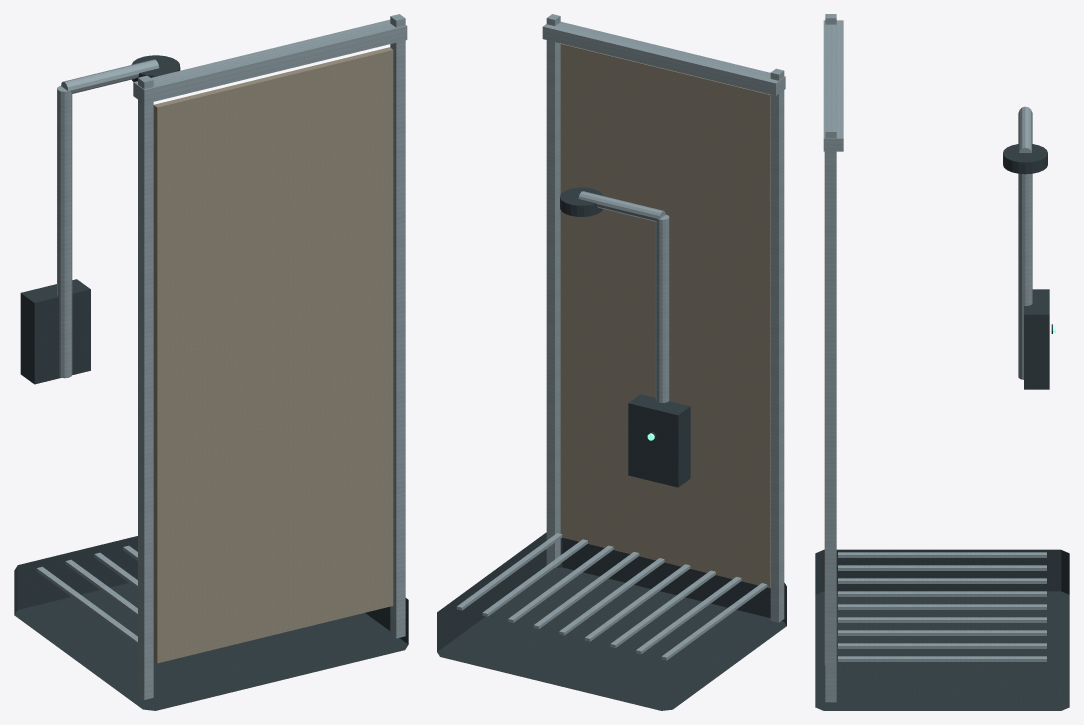
File: hygiene_shower.glb
3 views of the same model, side by side, from view 1: azimuth 30°, elevation 25°; view 2: azimuth 150°, elevation 25°; view 3: azimuth 270°, elevation 25° (orthographic). The views are drawn at different scales.
Parts seen in each view (by area): view 1: Splash_Curtain__fabricwarm, Drip_Tray__graphite, Support_Rails__alloy, Top_Rail__alloy, Spray_Arm__alloy, Flow_Control__graphite, Floor_Grate__alloy, Spray_Head__graphite; view 2: Splash_Curtain__fabricwarm, Drip_Tray__graphite, Support_Rails__alloy, Floor_Grate__alloy, Top_Rail__alloy, Flow_Control__graphite, Spray_Arm__alloy, Spray_Head__graphite; view 3: Drip_Tray__graphite, Floor_Grate__alloy, Support_Rails__alloy, Spray_Arm__alloy, Top_Rail__alloy, Flow_Control__graphite, Spray_Head__graphite, Splash_Curtain__fabricwarm.
Part boxes in pixels (x1=…): Splash_Curtain__fabricwarm: x1=153, y1=47, x2=393, y2=663; Drip_Tray__graphite: x1=14, y1=536, x2=408, y2=710; Support_Rails__alloy: x1=138, y1=14, x2=405, y2=699; Top_Rail__alloy: x1=133, y1=19, x2=407, y2=103; Spray_Arm__alloy: x1=57, y1=59, x2=159, y2=378; Flow_Control__graphite: x1=20, y1=279, x2=90, y2=384; Floor_Grate__alloy: x1=36, y1=545, x2=137, y2=645; Spray_Head__graphite: x1=131, y1=55, x2=180, y2=81; Splash_Curtain__fabricwarm: x1=560, y1=43, x2=770, y2=588; Drip_Tray__graphite: x1=437, y1=532, x2=786, y2=710; Support_Rails__alloy: x1=546, y1=14, x2=784, y2=622; Floor_Grate__alloy: x1=456, y1=533, x2=767, y2=660; Top_Rail__alloy: x1=542, y1=21, x2=785, y2=95; Flow_Control__graphite: x1=628, y1=394, x2=690, y2=487; Spray_Arm__alloy: x1=578, y1=191, x2=669, y2=402; Spray_Head__graphite: x1=560, y1=187, x2=602, y2=216; Drip_Tray__graphite: x1=815, y1=549, x2=1069, y2=710; Floor_Grate__alloy: x1=838, y1=552, x2=1046, y2=661; Support_Rails__alloy: x1=825, y1=14, x2=836, y2=702; Spray_Arm__alloy: x1=1018, y1=106, x2=1032, y2=379; Top_Rail__alloy: x1=823, y1=20, x2=843, y2=151; Flow_Control__graphite: x1=1024, y1=289, x2=1052, y2=389; Spray_Head__graphite: x1=1003, y1=144, x2=1047, y2=174; Splash_Curtain__fabricwarm: x1=824, y1=152, x2=825, y2=664.
Bounding box in the file's own units: 0.99 × 2.23 × 0.89.
4 materials, 4 textured.
